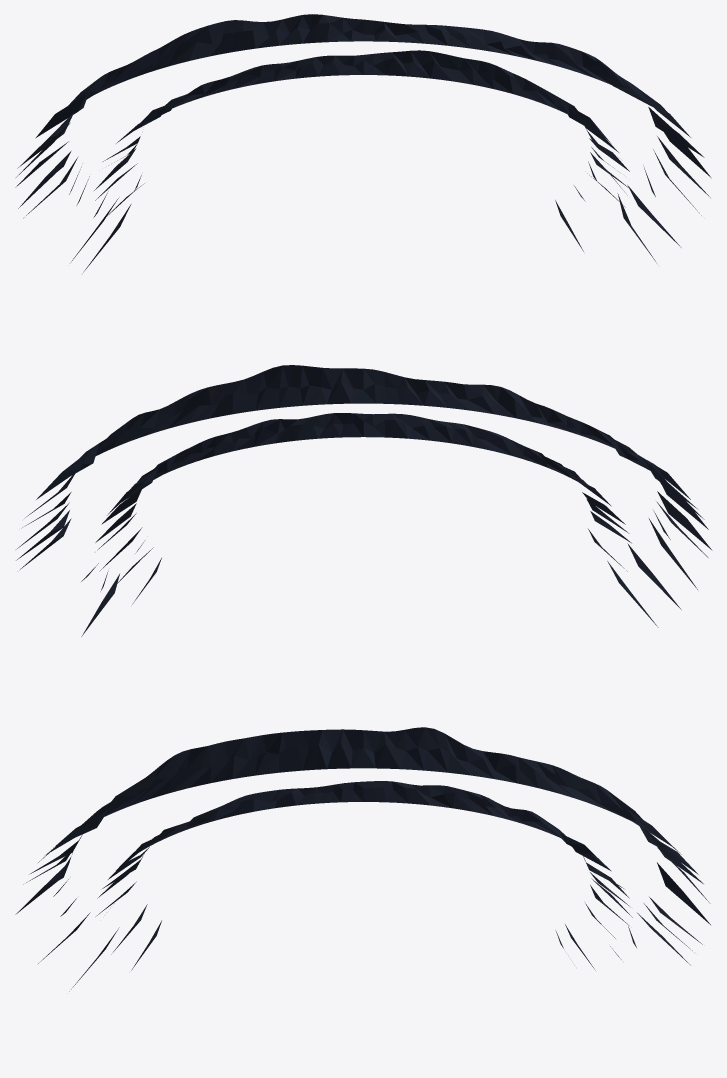
The model's file is skyline_night.glb.
The picture shows the model from 3 angles, top to bottom: view 1: azimuth 30°, elevation 25°; view 2: azimuth 150°, elevation 25°; view 3: azimuth 270°, elevation 25°; orthographic projection.
Parts seen in each view (by area): view 1: skyline; view 2: skyline; view 3: skyline.
Part boxes in pixels (x1=…): skyline: x1=15, y1=14, x2=711, y2=272; skyline: x1=16, y1=365, x2=712, y2=636; skyline: x1=15, y1=727, x2=710, y2=991.
Size of the model in its own units: 739 by 78.9 by 739.
